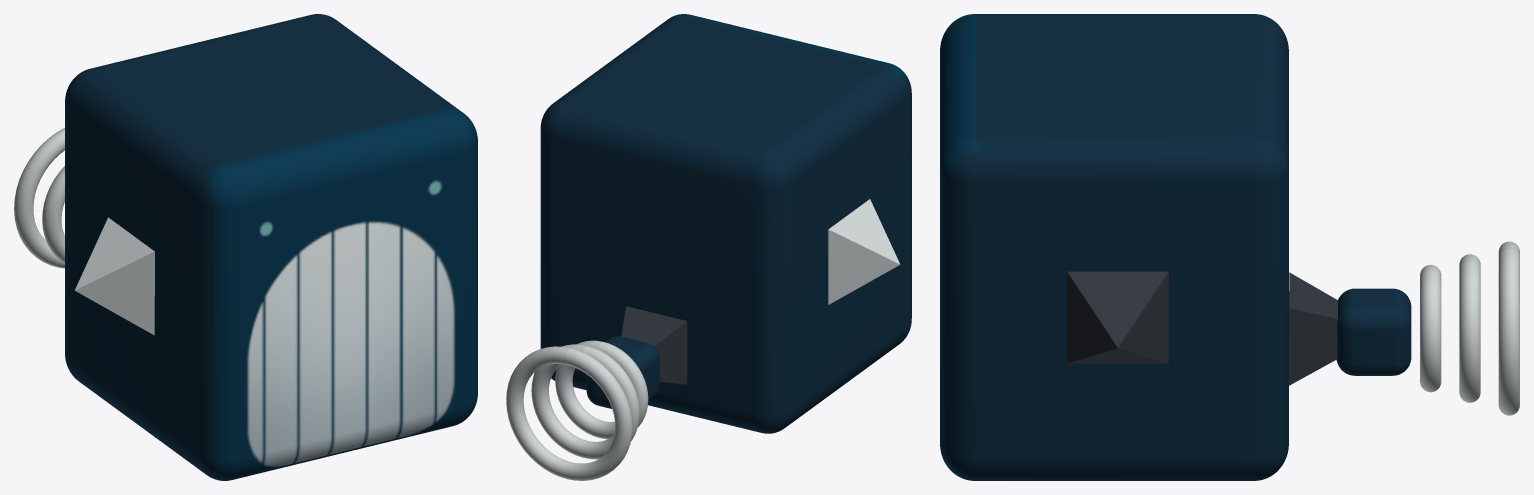
Rendered from whale.glb.
3 renders of one model, left to right at view 1: azimuth 30°, elevation 25°; view 2: azimuth 150°, elevation 25°; view 3: azimuth 270°, elevation 25°, orthographic. The views are drawn at different scales.
Parts seen in each view (by area): view 1: Cube, Pyramid, Torus, Torus 3; view 2: Cube, Torus, Pyramid, Torus 3, Pyramid 4, Torus 2, Cube 2; view 3: Cube, Pyramid 2, Cube 2, Pyramid 4, Torus, Torus 3, Torus 2.
Boxes of the visible parts, x1,y1,x2,y2 form: Cube: (65,14,477,480); Pyramid: (75,217,154,335); Torus: (14,127,64,268); Torus 3: (42,166,64,263); Cube: (540,14,911,433); Torus: (506,346,632,480); Pyramid: (828,199,900,304); Torus 3: (531,344,639,459); Pyramid 4: (621,306,687,384); Torus 2: (555,340,648,439); Cube 2: (586,336,659,408); Cube: (940,14,1288,480); Pyramid 2: (1067,271,1168,363); Cube 2: (1336,288,1411,375); Pyramid 4: (1289,272,1338,385); Torus: (1498,241,1519,415); Torus 3: (1459,254,1480,402); Torus 2: (1420,265,1441,392).
Bounding box in the file's own units: 0.2901 × 0.2224 × 0.3408.
Materials: 4 (1 with a texture image).
